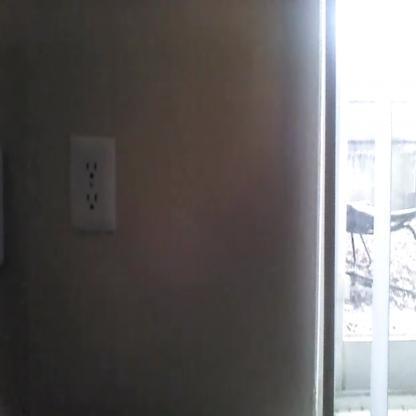OUTLET: (69, 135, 115, 233)
